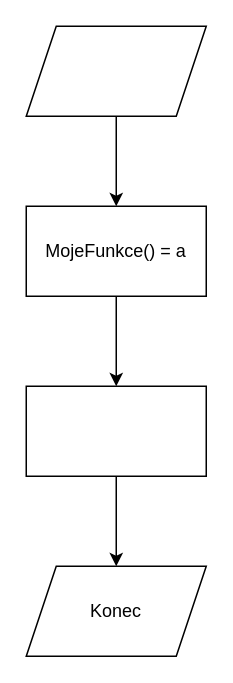
The diagram is 233 pixels wide and 683 high, and some of its shapes have lost their labels. The shapes that lost their labels are listed below. From the top down, each one's box as (x1, y1, x2, y2) in pixels, then its label:
(25, 25, 206, 116): Vstup a
(25, 385, 206, 476): RETURN a
